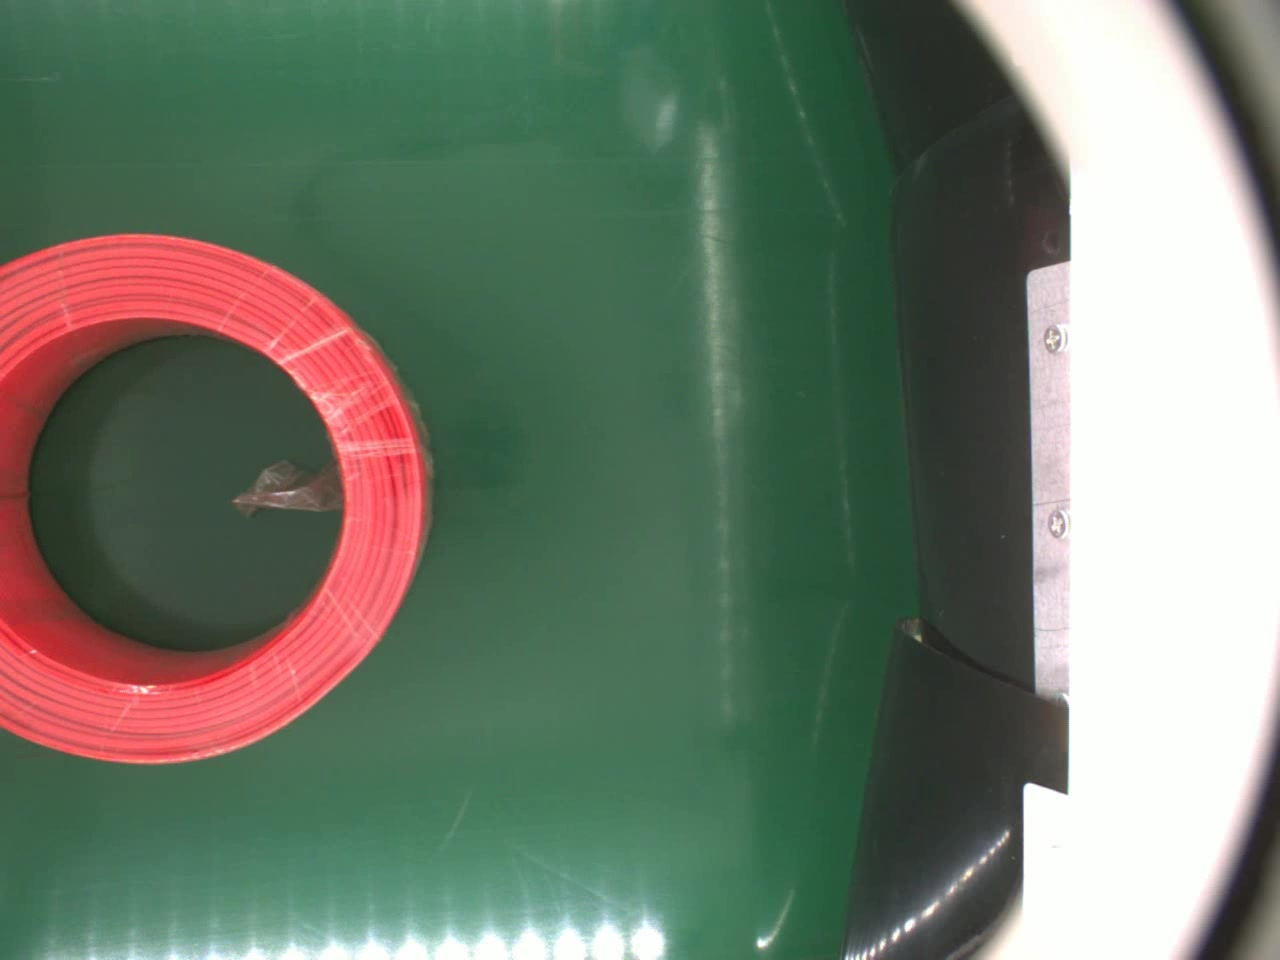red: (0, 233, 432, 767)
